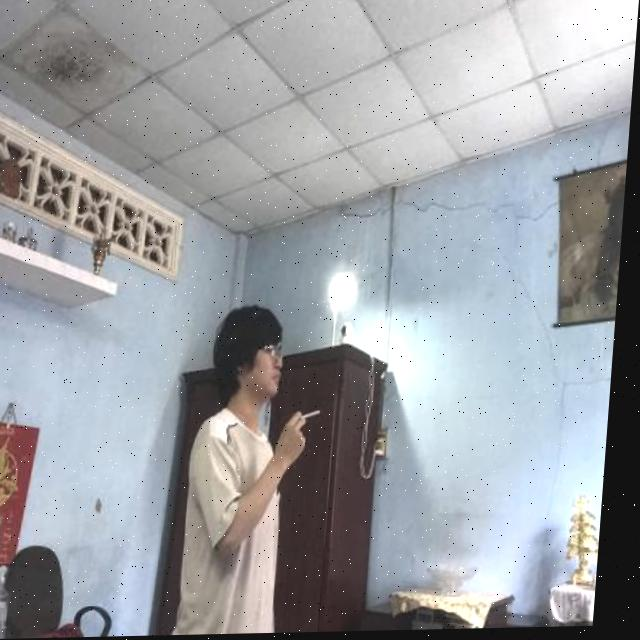cigarette: (304, 411, 327, 421)
